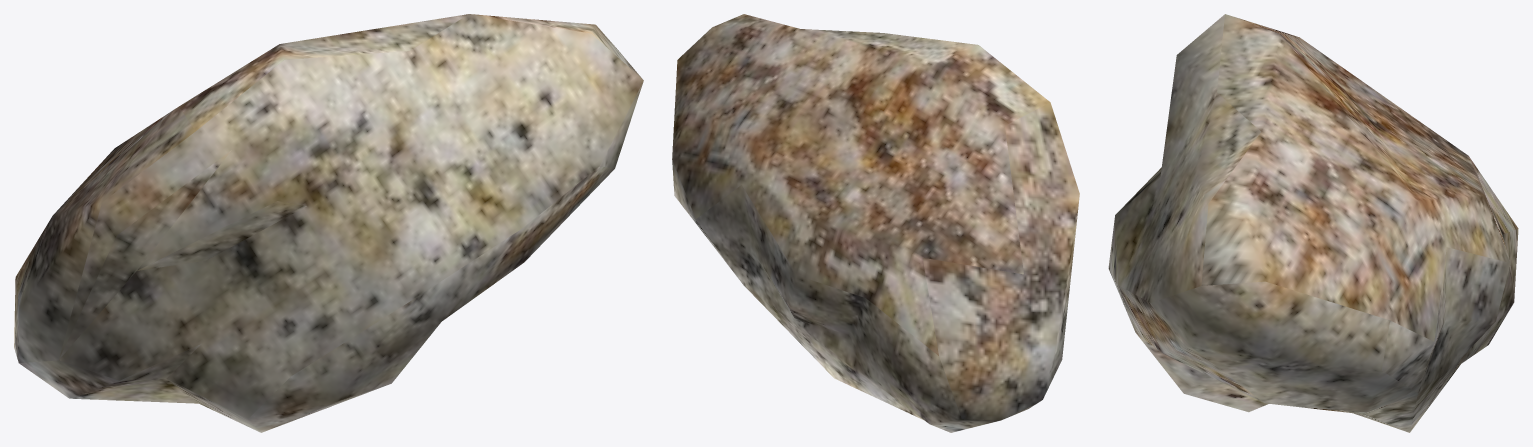
The picture shows the model from 3 angles, left to right: view 1: azimuth 30°, elevation 25°; view 2: azimuth 150°, elevation 25°; view 3: azimuth 270°, elevation 25°; orthographic projection. The views are drawn at different scales.
Parts seen in each view (by area): view 1: rock023_lod4; view 2: rock023_lod4; view 3: rock023_lod4.
Boxes of the visible parts, bbox=[...] form: rock023_lod4: bbox=[14, 14, 643, 432]; rock023_lod4: bbox=[672, 14, 1079, 432]; rock023_lod4: bbox=[1108, 14, 1518, 432].
Size of the model in its own units: 1 by 0.6944 by 0.6534.
1 material, 1 textured.
